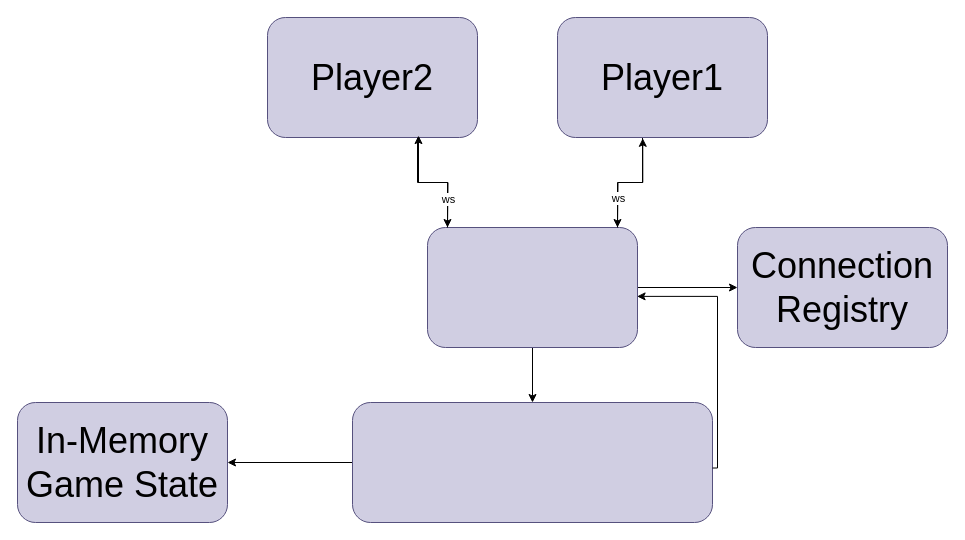
Image size: 965x540. Some labels were removed from this diagram. Here are the shapes that lost their labels. From the top down, the centre of each, then its label:
the point at 532,287: Server
the point at 532,462: GameMatchServer
